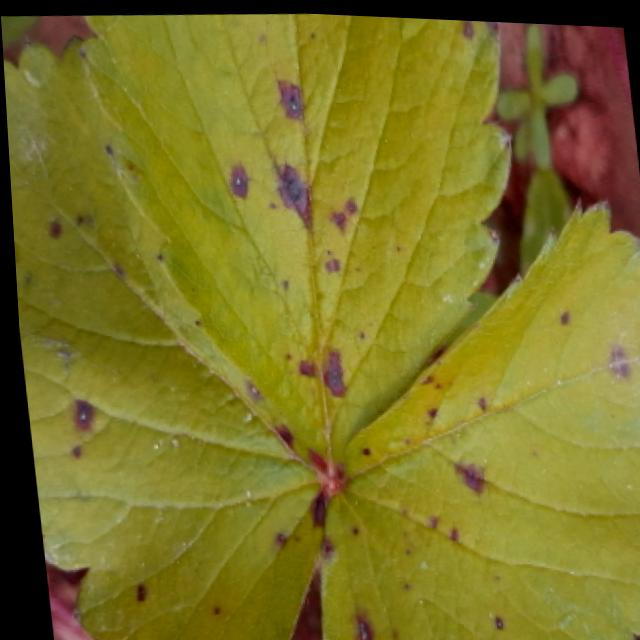Leaf Spot: (76, 11, 511, 481), (3, 33, 325, 640), (311, 193, 640, 640)
